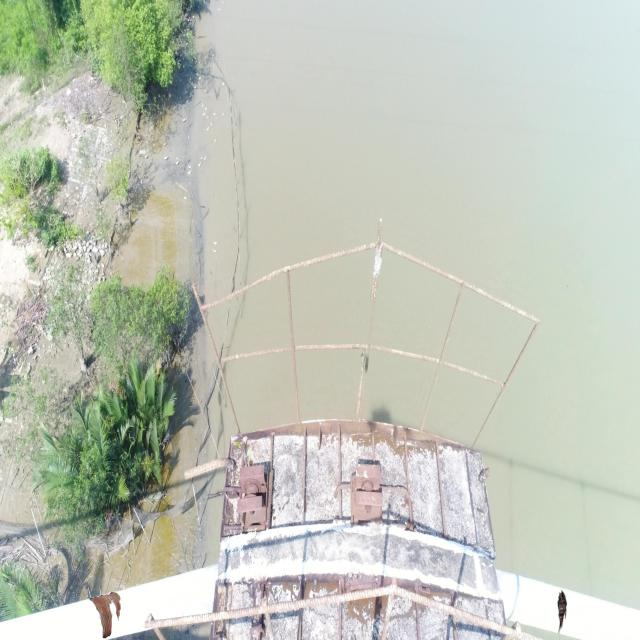corrosion: (89, 592, 121, 640), (557, 590, 568, 634)
